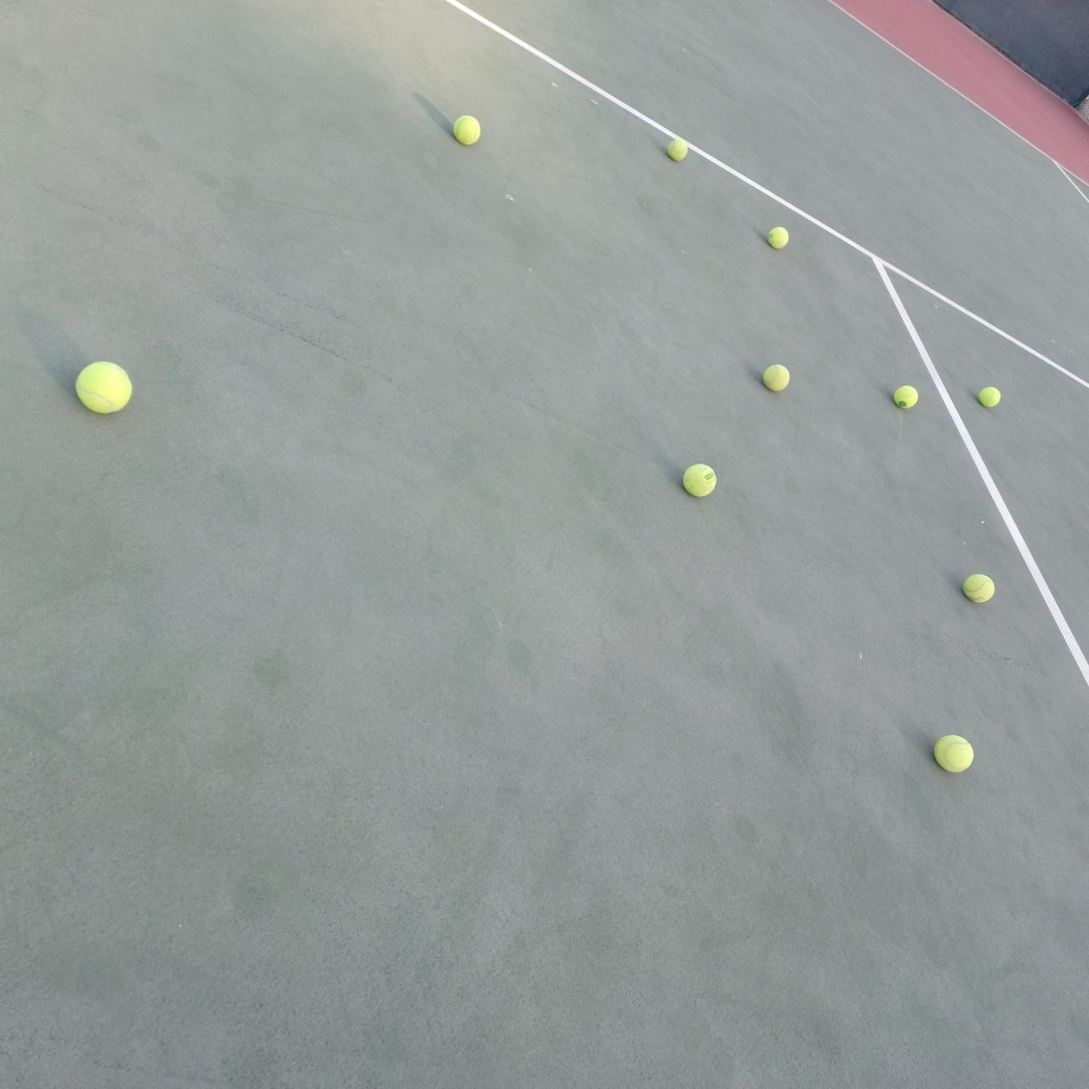tennis-ball: (73, 358, 133, 414), (932, 733, 974, 773), (681, 461, 716, 498), (961, 571, 995, 603), (451, 112, 482, 145), (761, 362, 790, 392), (892, 383, 918, 409), (665, 135, 688, 162), (766, 224, 790, 249), (976, 384, 1001, 408)
